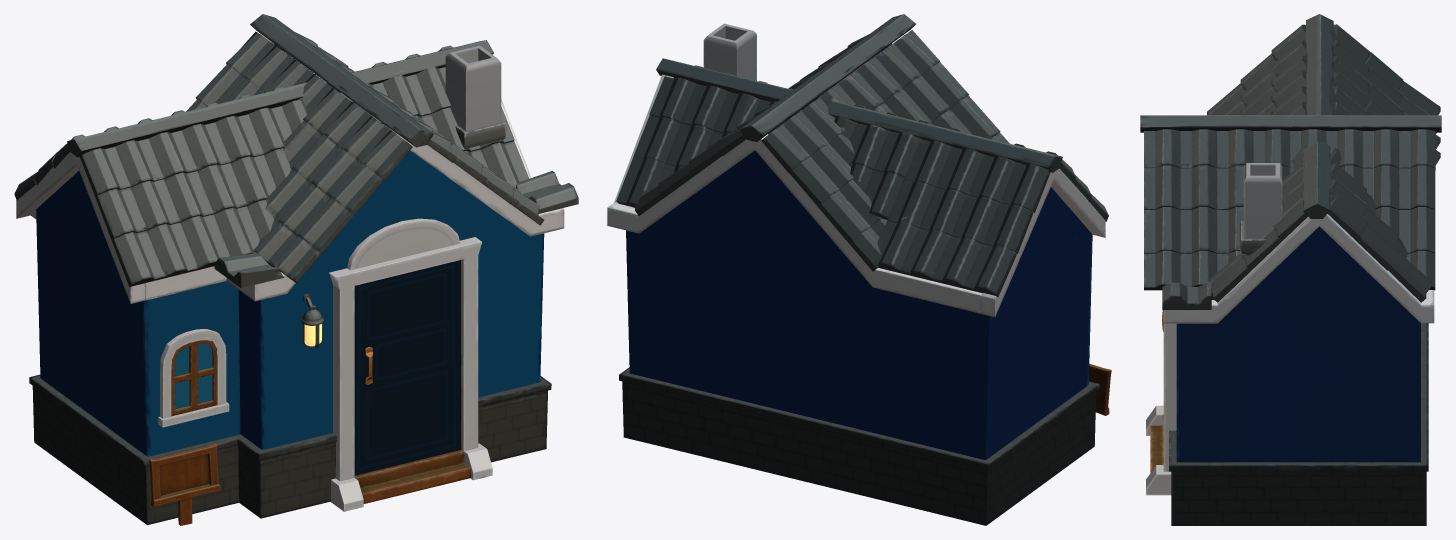
File: modern_house.glb
3 renders of one model, left to right at view 1: azimuth 30°, elevation 25°; view 2: azimuth 150°, elevation 25°; view 3: azimuth 270°, elevation 25°, orthographic. The views are drawn at different scales.
Visible parts, largest first — view 1: Object_2, Object_6, Object_8, Object_3, Object_5, Object_10, Object_7, Object_4, Object_9; view 2: Object_6, Object_2, Object_3, Object_5, Object_7, Object_4; view 3: Object_2, Object_6, Object_3, Object_5, Object_8, Object_7.
Boxes of the visible parts, box(x1,y1,x2,y2) form: Object_2: box(14, 14, 578, 287); Object_6: box(36, 42, 544, 456); Object_8: box(329, 218, 492, 511); Object_3: box(29, 374, 551, 525); Object_5: box(16, 33, 564, 303); Object_10: box(158, 329, 229, 427); Object_7: box(445, 45, 506, 148); Object_4: box(149, 443, 220, 525); Object_9: box(301, 294, 323, 347); Object_6: box(626, 44, 1092, 460); Object_2: box(616, 14, 1108, 296); Object_3: box(619, 367, 1099, 525); Object_5: box(607, 38, 1105, 317); Object_7: box(703, 23, 756, 80); Object_4: box(1089, 363, 1111, 415); Object_2: box(1140, 14, 1441, 309); Object_6: box(1176, 226, 1420, 462); Object_3: box(1169, 323, 1428, 525); Object_5: box(1163, 214, 1434, 323); Object_8: box(1146, 310, 1176, 495); Object_7: box(1240, 163, 1282, 255).
Size of the model in its own units: 34.55 by 28.64 by 22.59.
9 materials, 9 textured.
